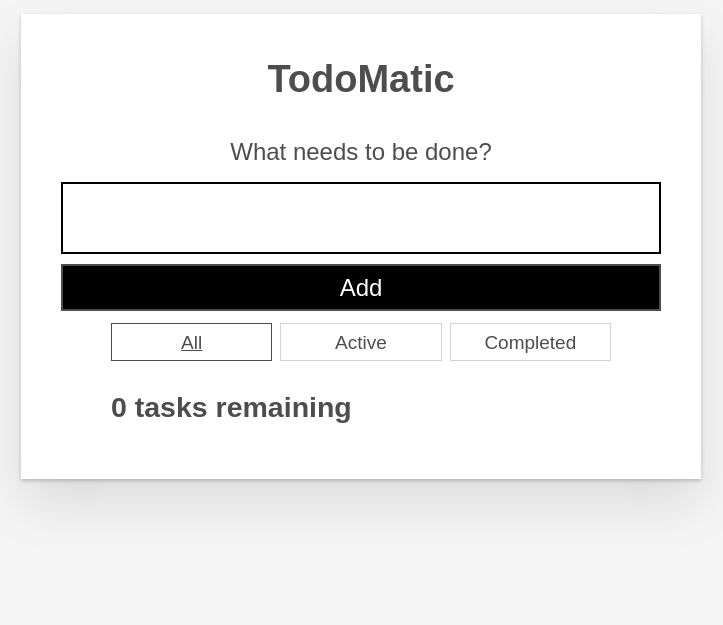
Test: Todo App › deletes a task
The image size is (723, 625).
In the field labelled "What needs to be done?": (361, 218) [61,182,661,254], type "Delete me"
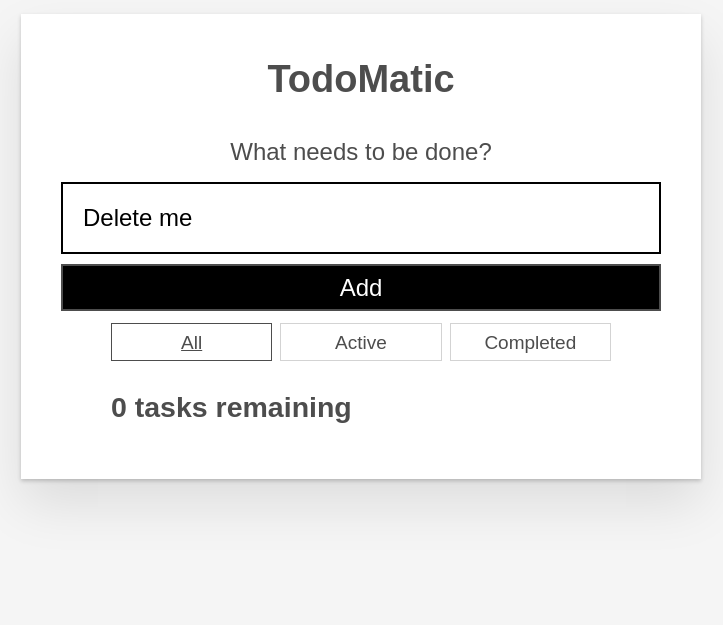
Click the button "Add": (361, 287) [61,264,661,311]
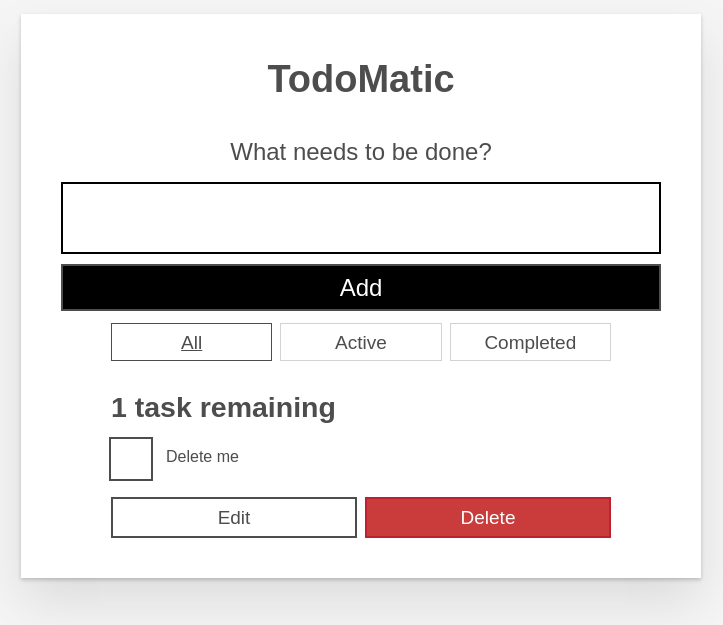
Click the button named "Delete Delete me": (488, 517) [365,497,611,538]
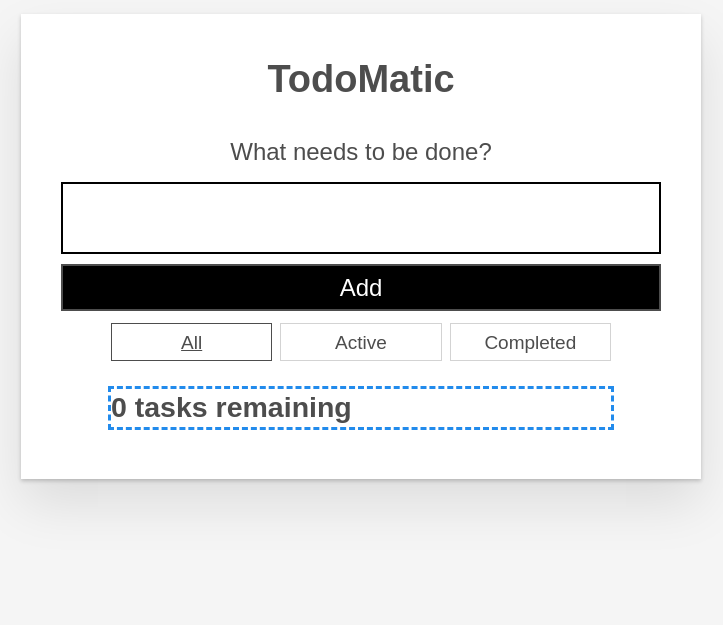
Expected: the checkbox "Delete me" is gone
